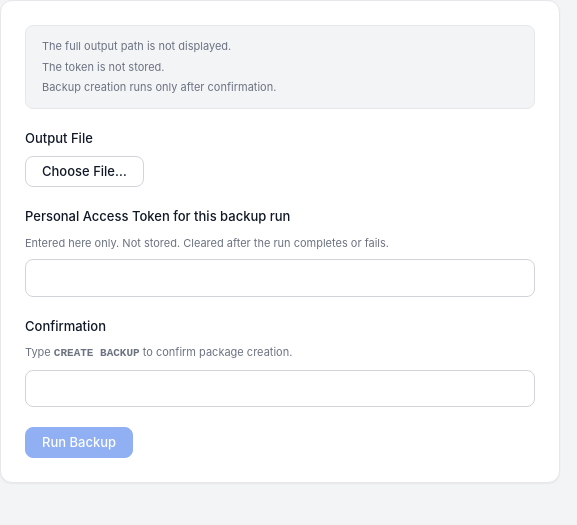
it: BackupExecutionPanel cancel button › cancel button clears token
This screenshot has width=577, height=525.
Click the button with test id "pick-output-path-button" at point(84, 172), box [25,156,144,187]
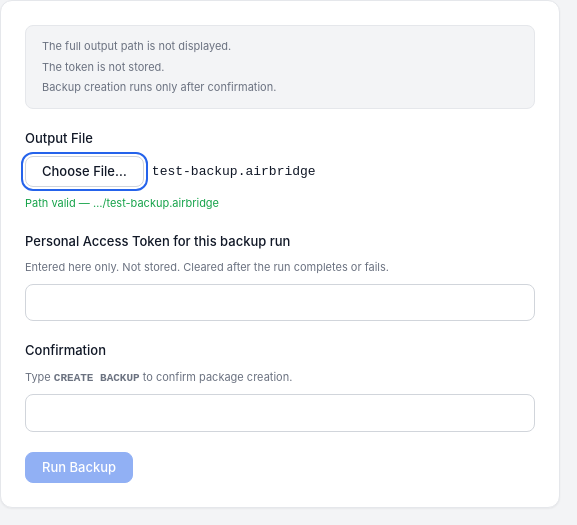
Check: the text "Path valid — …/test-backup.airbridge" is shown, box [25,196,219,210]
Type "pat_test_token_for_progress" into the password field with test id "backup-token-input" at point(280, 302), box [25,284,535,321]
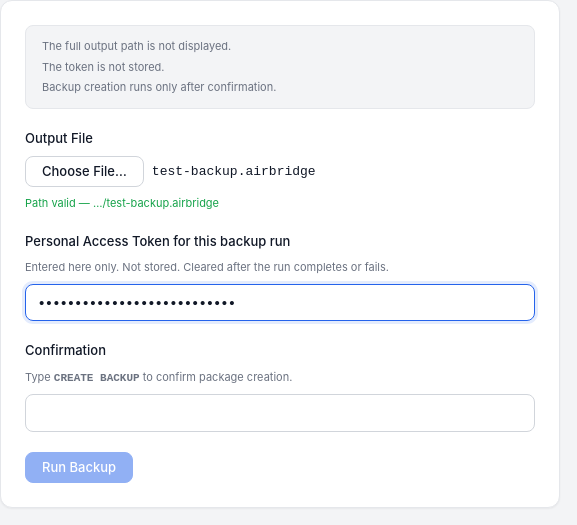
Type "CREATE BACKUP" into the field with test id "backup-confirmation-input" at point(280, 413), box [25,394,535,432]
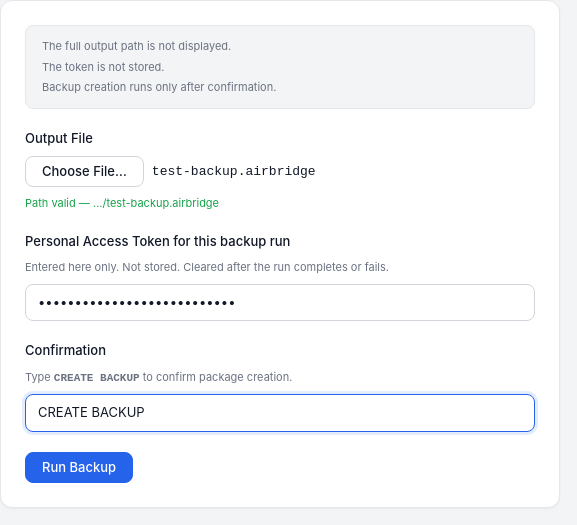
Click the button with test id "run-backup-button" at point(79, 467), box [25,452,133,482]
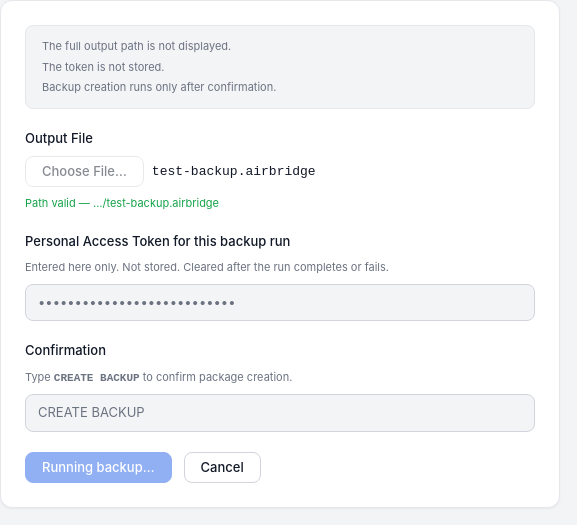
Check: the button with test id "cancel-backup-button" is shown
Click the button with test id "cancel-backup-button" at point(222, 467), box [184,452,261,482]
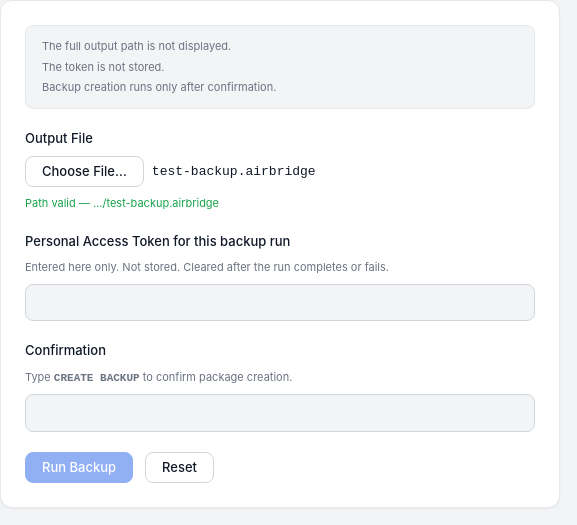
Check: the password field with test id "backup-token-input" is empty, box [25,284,535,321]
